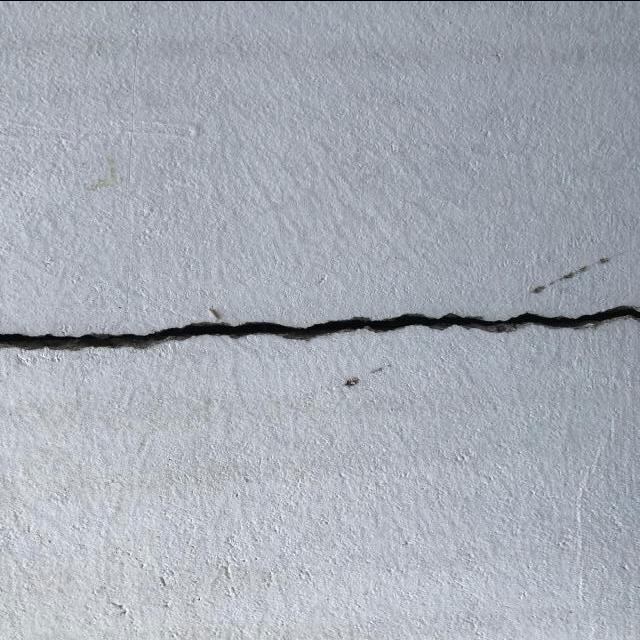SurfaceCrack: (0, 245, 639, 412)
